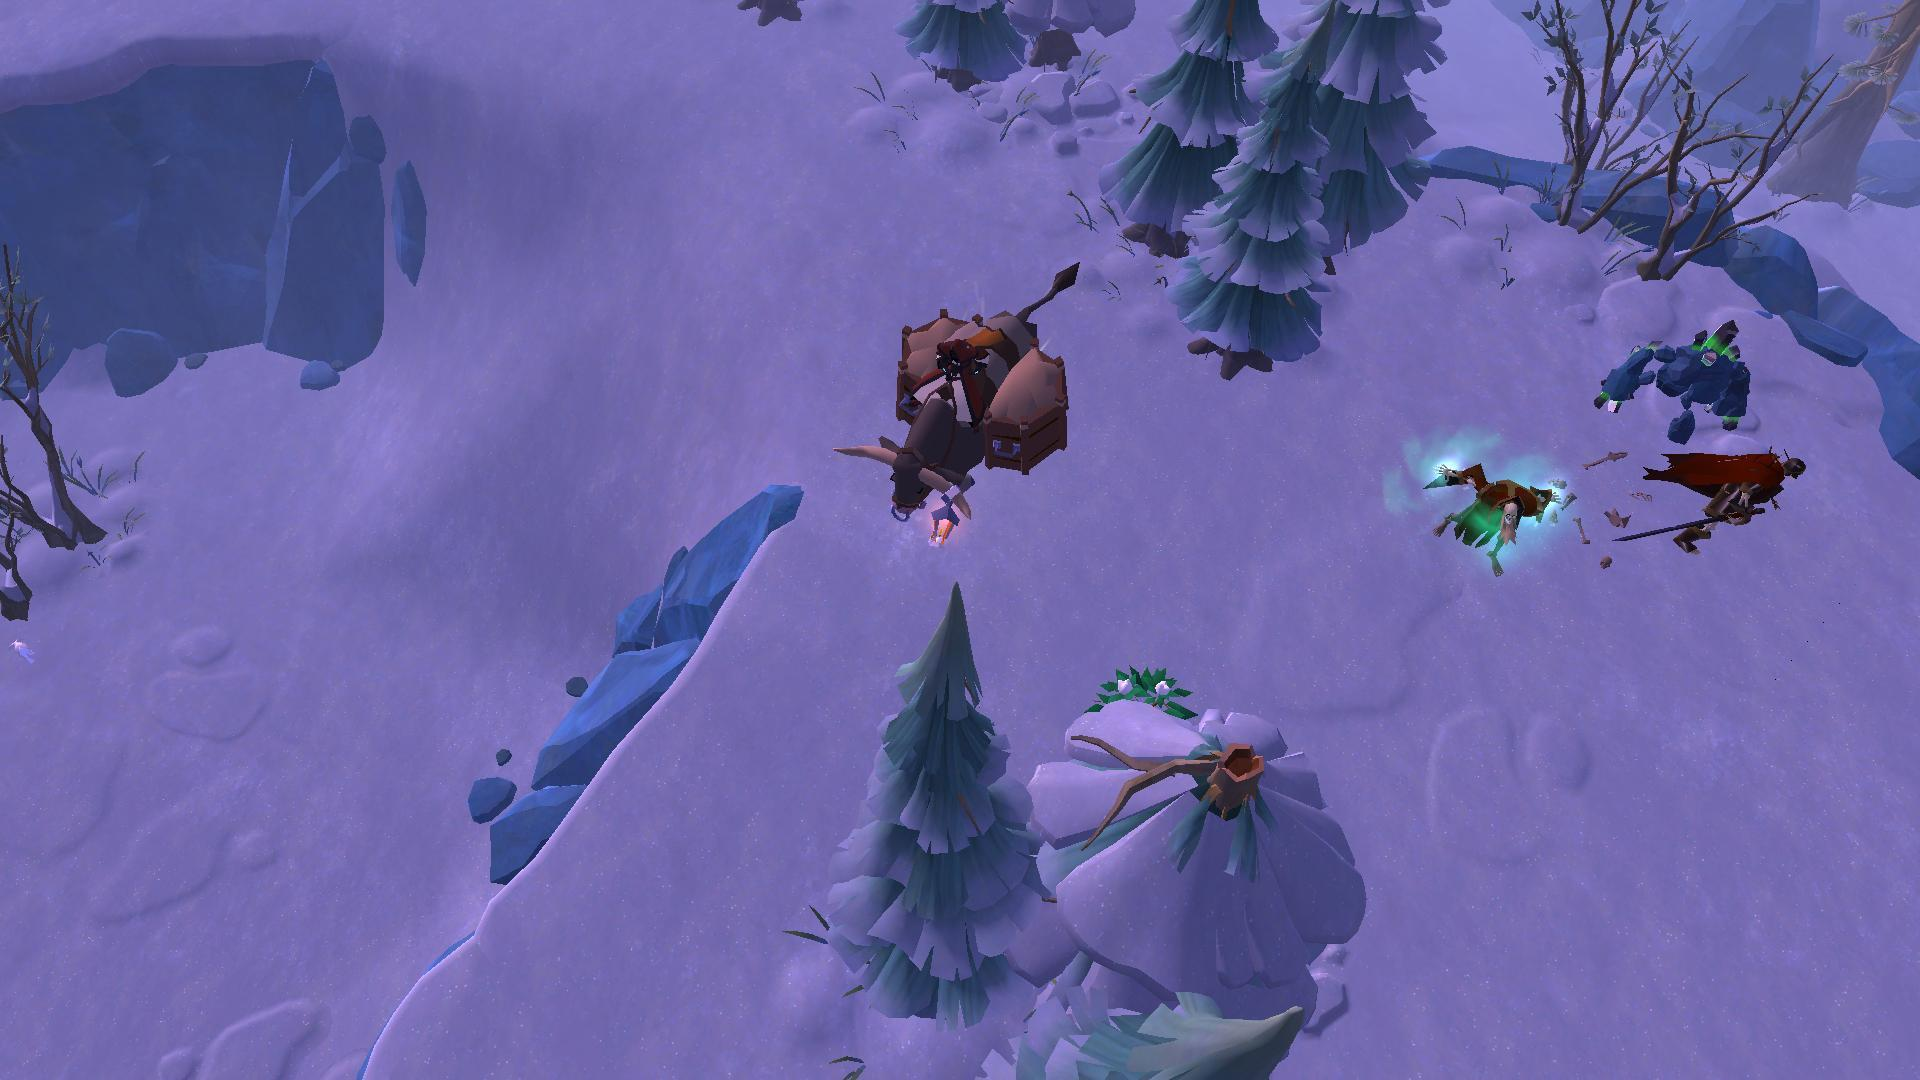enemy_factionUndead: (1650, 440, 1803, 570), (1428, 454, 1555, 592)
fiber_t3: (1087, 658, 1199, 735)
